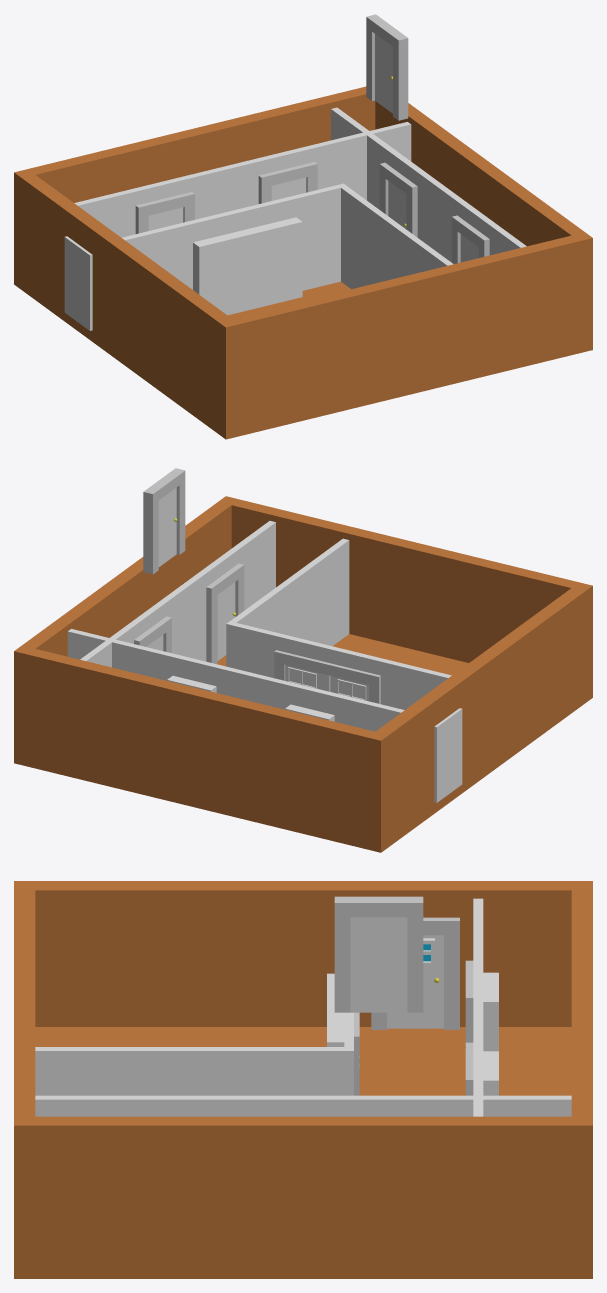
The model's file is Hall.fbx.
3 renders of one model, top to bottom at view 1: azimuth 30°, elevation 25°; view 2: azimuth 150°, elevation 25°; view 3: azimuth 270°, elevation 25°, orthographic. The views are drawn at different scales.
Visible parts, largest first — view 1: Cube, Cube.003, Cube.002, Cube.025, Cube.005, Cube.004, Cube.056, Cube.001, Cube.029, Cube.009, Cube.014, Cube.016 (+2 smaller); view 2: Cube, Cube.003, Cube.005, Cube.004, Cube.002, Cube.056, Cube.001, Cube.030, Cube.018, Cube.024, Cube.021; view 3: Cube, Cube.004, Cube.005, Cube.056, Cube.003, Cube.001, Cube.007, Cube.027, Cube.025, Cube.002, Cube.028, Cube.008.
Part boxes in pixels (x1,y1,x2,y2): Cube: (14,86,592,439); Cube.003: (74,122,411,237); Cube.002: (122,183,346,290); Cube.025: (193,217,302,315); Cube.005: (331,107,526,262); Cube.004: (338,183,453,288); Cube.056: (366,14,408,120); Cube.001: (64,236,92,330); Cube.029: (388,181,406,228); Cube.009: (141,194,191,217); Cube.014: (267,164,314,185); Cube.016: (406,182,417,237); Cube: (14,496,592,852); Cube.003: (67,629,404,731); Cube.005: (80,521,275,667); Cube.004: (227,538,349,646); Cube.002: (226,621,451,709); Cube.056: (143,468,185,574); Cube.001: (434,708,462,802); Cube.030: (217,582,235,660); Cube.018: (206,583,217,664); Cube.024: (325,662,375,686); Cube.021: (277,652,327,674); Cube: (14,881,592,1278); Cube.004: (35,1047,353,1095); Cube.005: (35,1095,571,1116); Cube.056: (334,896,423,1012); Cube.003: (473,898,483,1116); Cube.001: (387,935,443,1028); Cube.007: (444,917,459,1029); Cube.027: (483,972,498,1051); Cube.025: (327,973,344,1046); Cube.002: (344,1012,353,1095); Cube.028: (483,1051,498,1095); Cube.008: (423,917,455,935).
Size of the model in its own units: 1522 by 954 by 1511.
